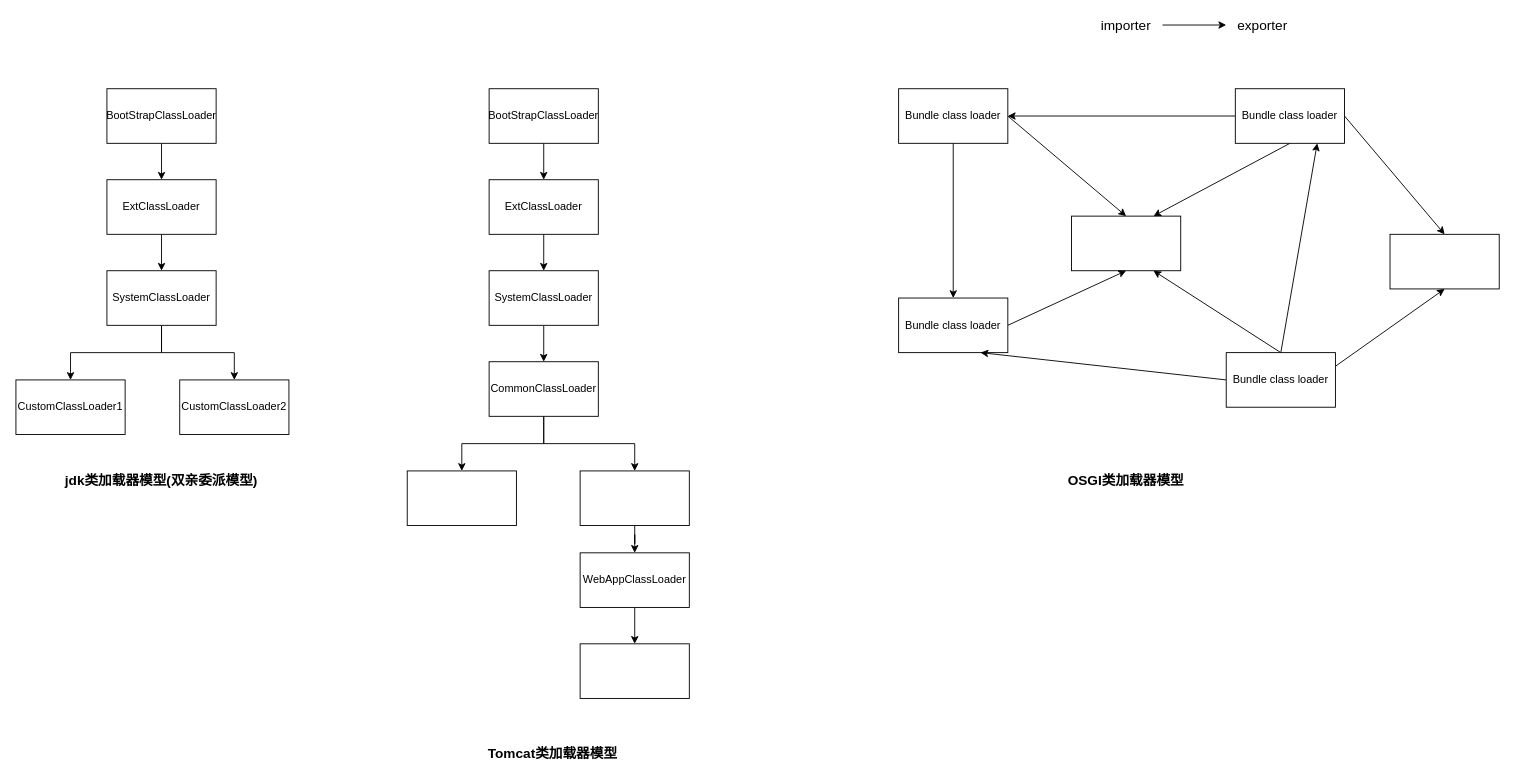
Some shapes in this 1515 by 777 pixel diagram are drawn without their labels. Here are the shapes that lost their labels. From the top down, the centre of each, then its label:
At pixel 1126 243: "parent/system class loader".
At pixel 1444 261: "system Bundle class loader".
At pixel 461 498: "CatalinaClassLoader".
At pixel 634 498: "SharedClassLoader".
At pixel 634 670: "JasperClassLoader".
